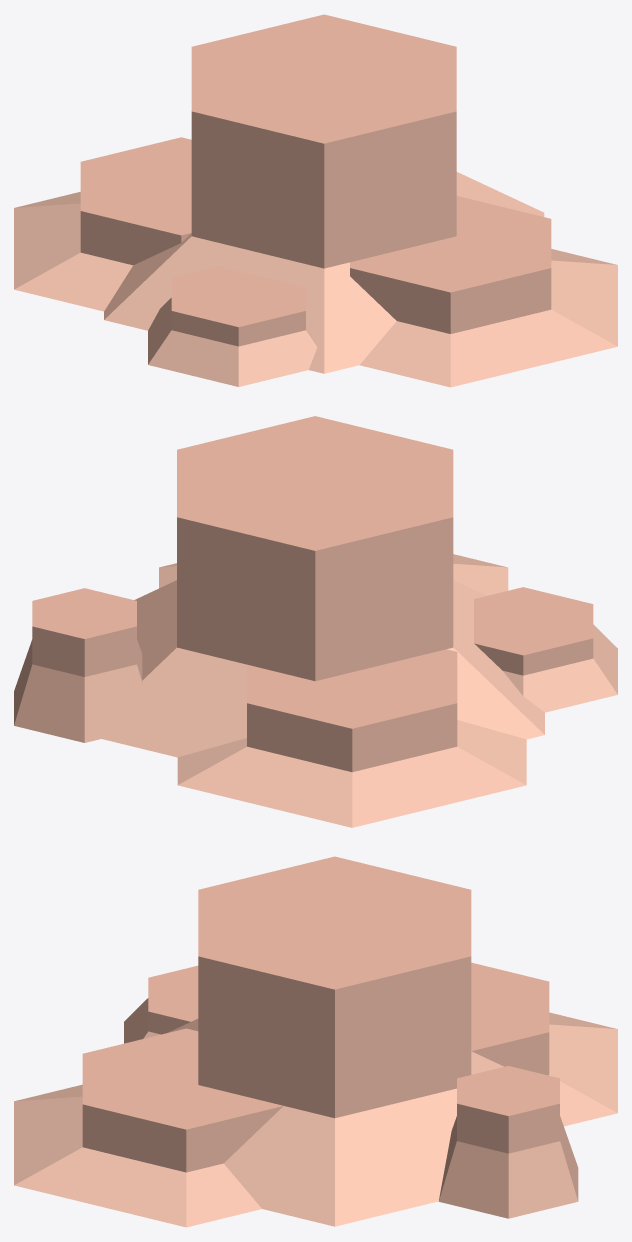
File: rock.glb
3 views of the same model, one above another, from view 1: azimuth 30°, elevation 25°; view 2: azimuth 150°, elevation 25°; view 3: azimuth 270°, elevation 25° (orthographic). The views are drawn at different scales.
Visible parts, largest first — view 1: rock; view 2: rock; view 3: rock.
Part boxes in pixels (x1=…): rock: x1=14, y1=14, x2=617, y2=387; rock: x1=14, y1=416, x2=617, y2=827; rock: x1=14, y1=856, x2=617, y2=1227.
Bounding box in the file's own units: 0.8015 × 0.3 × 0.8509.
1 material, 1 textured.
